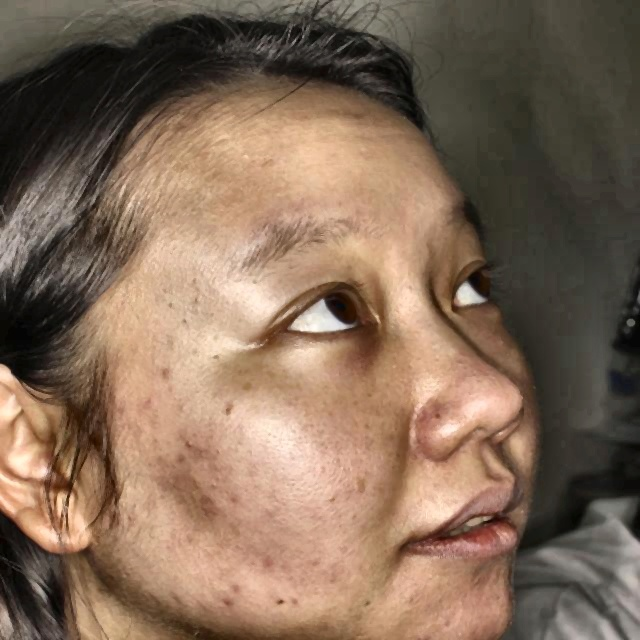pustule: (214, 577, 244, 614), (134, 390, 166, 422), (155, 582, 191, 608), (194, 486, 221, 514), (180, 425, 204, 454), (155, 359, 178, 384), (251, 549, 276, 570), (224, 486, 242, 508)
